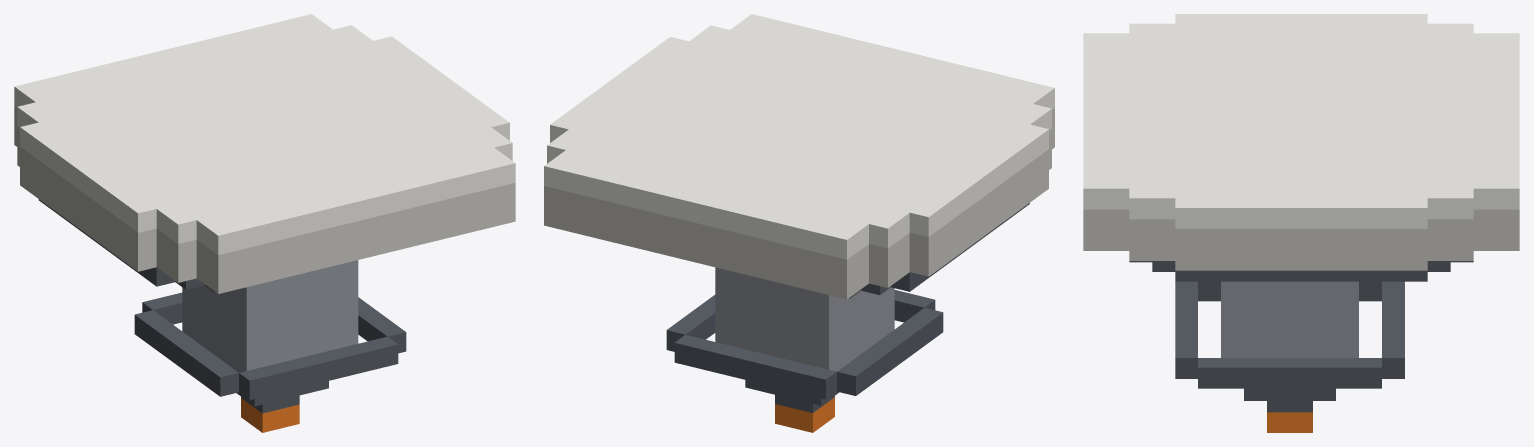
File: Table.obj
3 renders of one model, left to right at view 1: azimuth 30°, elevation 25°; view 2: azimuth 150°, elevation 25°; view 3: azimuth 270°, elevation 25°, orthographic. The views are drawn at different scales.
Bounding box in the file's own units: 2 × 1.5 × 1.9.
1 material, 1 textured.
